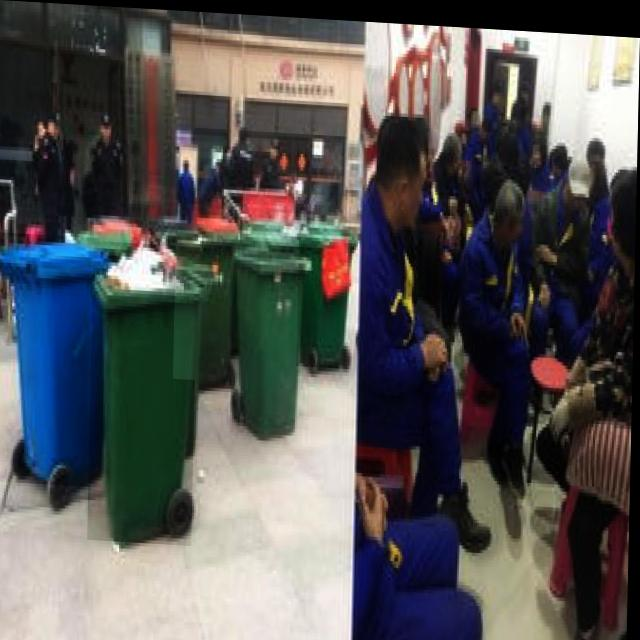garbage_bin: (0, 232, 106, 486), (232, 240, 313, 433), (174, 230, 239, 379), (298, 220, 355, 365)
overflow: (90, 240, 199, 543)
